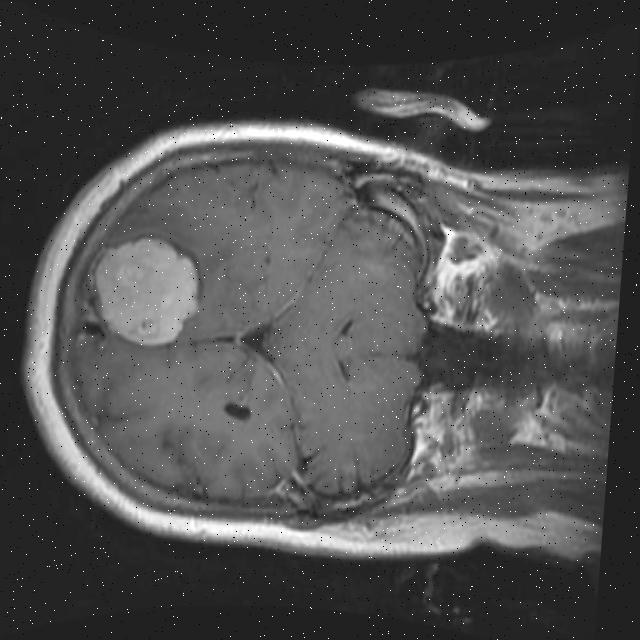Meningioma: (87, 233, 207, 349)
